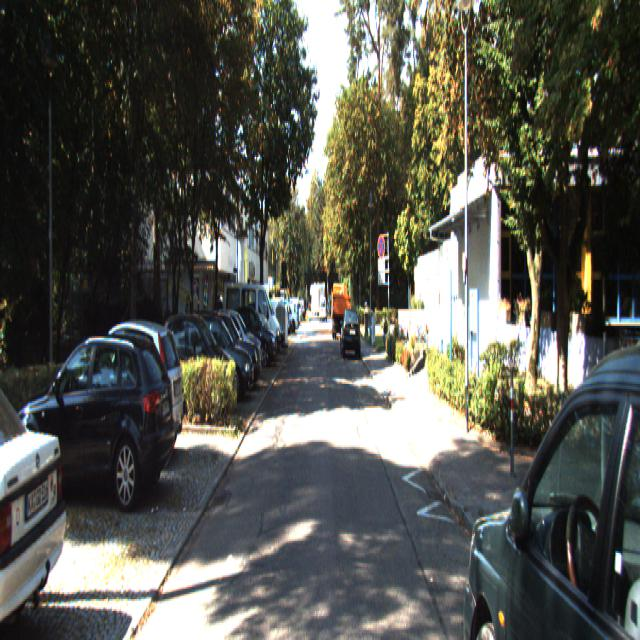Car: (463, 299, 640, 638), (13, 326, 178, 510), (0, 336, 74, 638), (68, 312, 186, 468), (154, 308, 238, 419), (175, 310, 254, 404), (185, 305, 261, 391), (221, 282, 281, 360), (219, 305, 277, 367), (330, 279, 351, 341), (339, 306, 360, 358)
